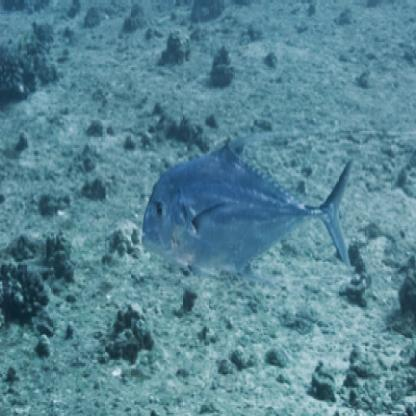Carangidae -Jacks-: (131, 119, 358, 297)
